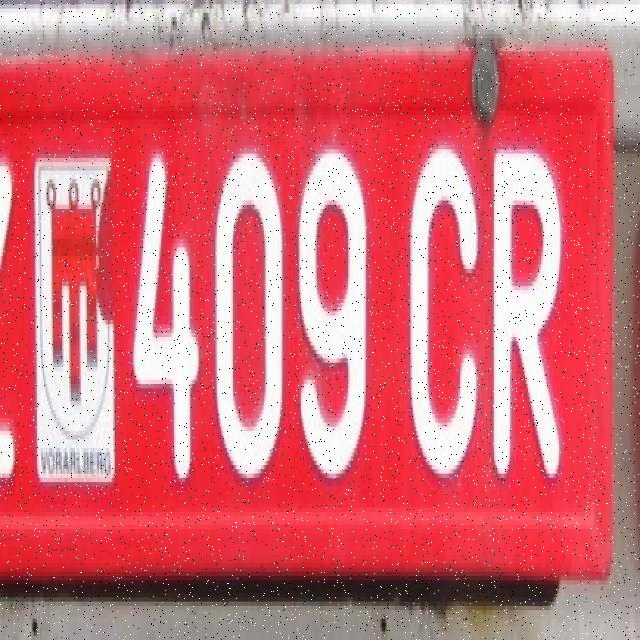licenseplate: (0, 0, 620, 610)
